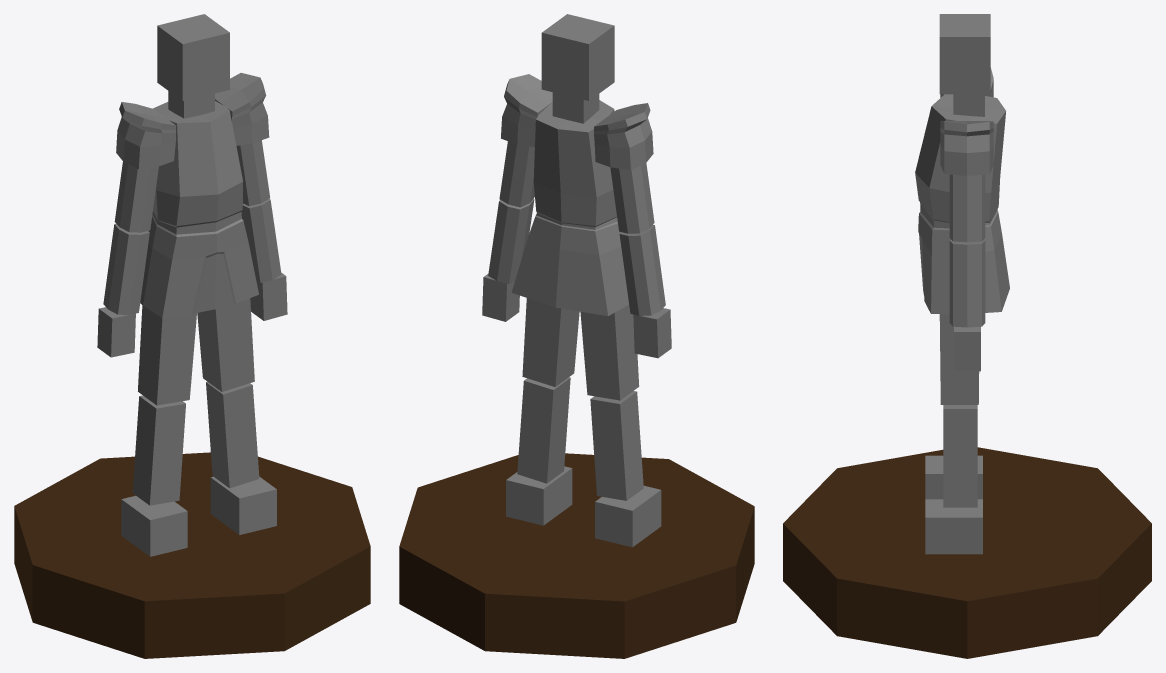
Rendered from Figure.glb.
The picture shows the model from 3 angles, left to right: view 1: azimuth 30°, elevation 25°; view 2: azimuth 150°, elevation 25°; view 3: azimuth 270°, elevation 25°; orthographic projection.
Parts seen in each view (by area): view 1: Cube.015; view 2: Cube.015; view 3: Cube.015.
Part boxes in pixels (bbox=[...]): Cube.015: bbox=[14, 14, 370, 658]; Cube.015: bbox=[399, 14, 754, 658]; Cube.015: bbox=[783, 14, 1151, 658].
Size of the model in its own units: 1.66 by 2.76 by 1.66.
